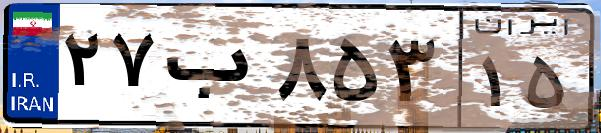1: (475, 38, 525, 113)
2: (57, 26, 110, 100)
3: (385, 28, 445, 110)
5: (330, 28, 385, 110), (525, 38, 570, 115)
7: (110, 28, 158, 98)
8: (270, 28, 330, 110)
ب: (158, 20, 270, 120)
